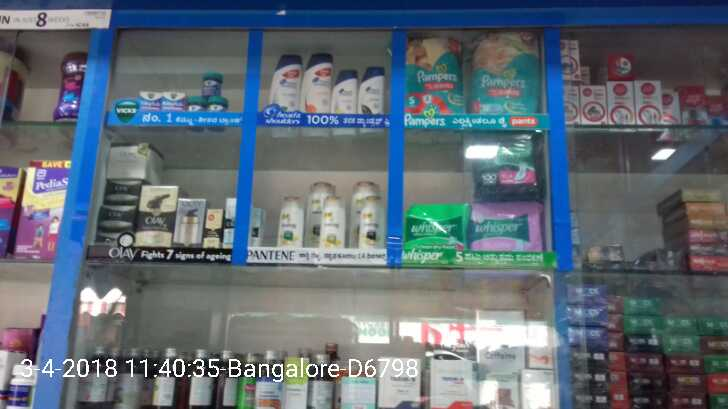vicks: (137, 70, 229, 114)
